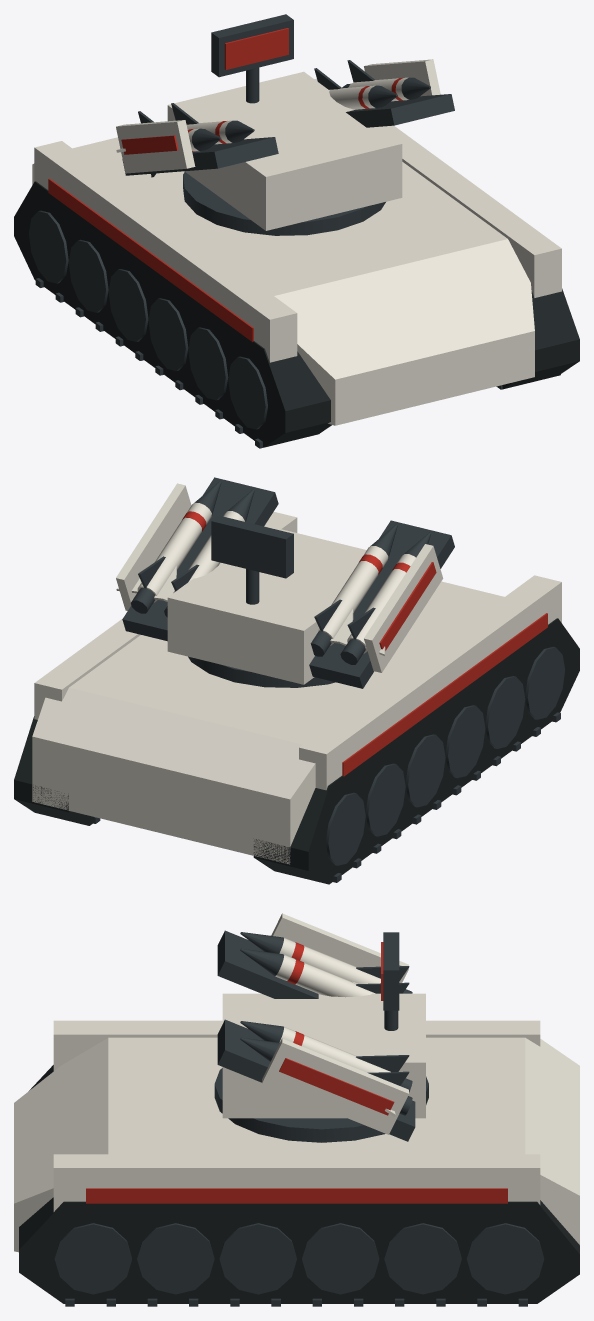
The picture shows the model from 3 angles, top to bottom: view 1: azimuth 30°, elevation 25°; view 2: azimuth 150°, elevation 25°; view 3: azimuth 270°, elevation 25°; orthographic projection. The views are drawn at different scales.
Visible parts, largest first — view 1: aa-tank-fleet-armor, turret-fleet-armor, aa-tank-fleet-rubber, aa-tank-fleet-machine, aa-tank-fleet-red, launcher-left-fleet-armor, radar-fleet-machine, launcher-right-fleet-machine, launcher-left-fleet-machine, radar-fleet-red, launcher-right-fleet-armor, launcher-left-fleet-red (+5 smaller); view 2: aa-tank-fleet-armor, aa-tank-fleet-rubber, turret-fleet-armor, aa-tank-fleet-machine, launcher-left-fleet-machine, radar-fleet-machine, launcher-right-fleet-machine, aa-tank-fleet-red, launcher-left-fleet-armor, launcher-right-fleet-armor, loaded-missile-1-0.2-fleet-armor, loaded-missile--1-0.2-fleet-armor (+7 smaller); view 3: aa-tank-fleet-armor, aa-tank-fleet-machine, aa-tank-fleet-rubber, turret-fleet-armor, aa-tank-fleet-red, launcher-right-fleet-armor, launcher-left-fleet-machine, launcher-right-fleet-machine, launcher-left-fleet-armor, launcher-right-fleet-red, loaded-missile--1-0.2-fleet-armor, loaded-missile--1--0.2-fleet-armor (+6 smaller).
Boxes of the visible parts, x1,y1,x2,y2 form: aa-tank-fleet-armor: [32, 78, 561, 425]; turret-fleet-armor: [167, 71, 402, 230]; aa-tank-fleet-rubber: [14, 181, 579, 447]; aa-tank-fleet-machine: [28, 172, 560, 448]; aa-tank-fleet-red: [48, 178, 253, 342]; launcher-left-fleet-armor: [116, 120, 195, 173]; radar-fleet-machine: [211, 14, 293, 77]; launcher-right-fleet-machine: [346, 94, 454, 127]; launcher-left-fleet-machine: [122, 137, 278, 175]; radar-fleet-red: [224, 28, 288, 69]; launcher-right-fleet-armor: [364, 59, 440, 96]; launcher-left-fleet-red: [121, 135, 178, 154]; aa-tank-fleet-armor: [32, 512, 561, 864]; aa-tank-fleet-rubber: [14, 618, 579, 884]; turret-fleet-armor: [167, 525, 366, 684]; aa-tank-fleet-machine: [93, 646, 564, 882]; launcher-left-fleet-machine: [309, 520, 454, 688]; radar-fleet-machine: [211, 515, 293, 578]; launcher-right-fleet-machine: [122, 477, 278, 641]; aa-tank-fleet-red: [342, 613, 547, 776]; launcher-left-fleet-armor: [364, 544, 443, 672]; launcher-right-fleet-armor: [116, 483, 191, 610]; loaded-missile-1-0.2-fleet-armor: [116, 502, 211, 602]; loaded-missile--1-0.2-fleet-armor: [318, 546, 388, 645]; aa-tank-fleet-armor: [14, 1020, 579, 1252]; aa-tank-fleet-machine: [54, 1068, 544, 1306]; aa-tank-fleet-rubber: [19, 1065, 579, 1303]; turret-fleet-armor: [222, 993, 425, 1118]; aa-tank-fleet-red: [86, 1188, 507, 1203]; launcher-right-fleet-armor: [262, 1038, 408, 1134]; launcher-left-fleet-machine: [217, 930, 318, 998]; launcher-right-fleet-machine: [217, 1019, 415, 1141]; launcher-left-fleet-armor: [271, 913, 408, 982]; launcher-right-fleet-red: [279, 1058, 394, 1115]; loaded-missile--1-0.2-fleet-armor: [275, 954, 375, 997]; loaded-missile--1--0.2-fleet-armor: [279, 938, 380, 983].
Bounding box in the file's own units: 21.39 × 18.35 × 33.68.
